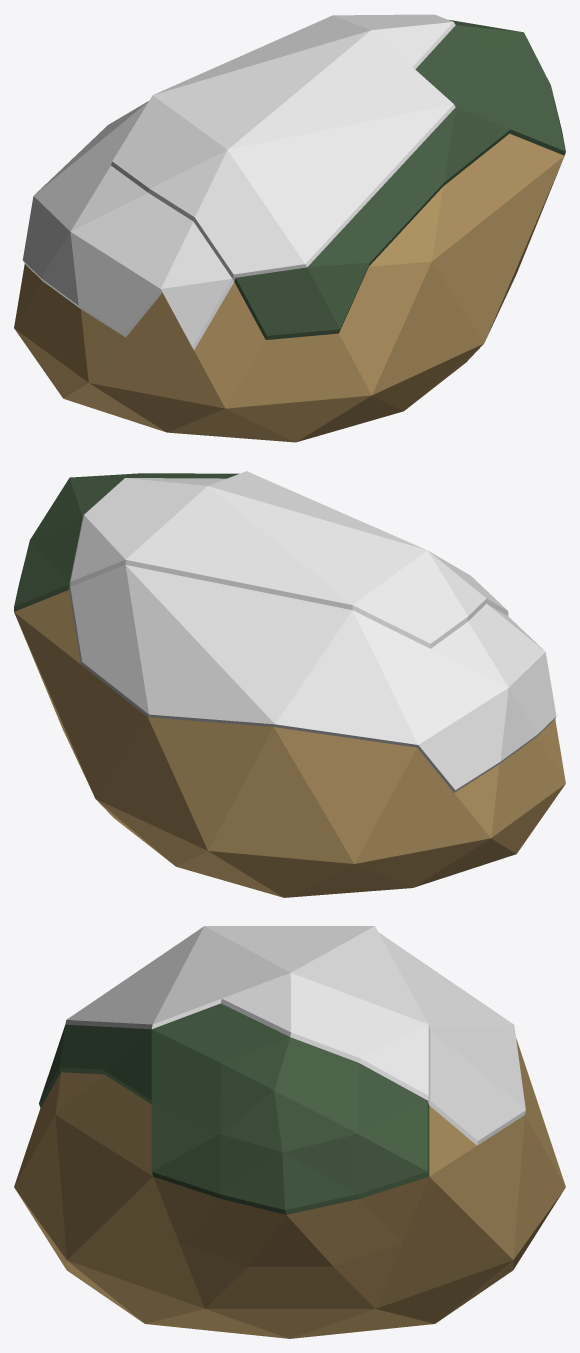
The model's file is MossStoneb.fbx.
3 renders of one model, top to bottom at view 1: azimuth 30°, elevation 25°; view 2: azimuth 150°, elevation 25°; view 3: azimuth 270°, elevation 25°, orthographic. The views are drawn at different scales.
Parts seen in each view (by area): view 1: MossStone.001; view 2: MossStone.001; view 3: MossStone.001.
Part boxes in pixels (bbox=[...]): MossStone.001: bbox=[14, 14, 565, 442]; MossStone.001: bbox=[14, 471, 565, 897]; MossStone.001: bbox=[14, 926, 565, 1338].
Size of the model in its own units: 1086 by 611 by 913.
